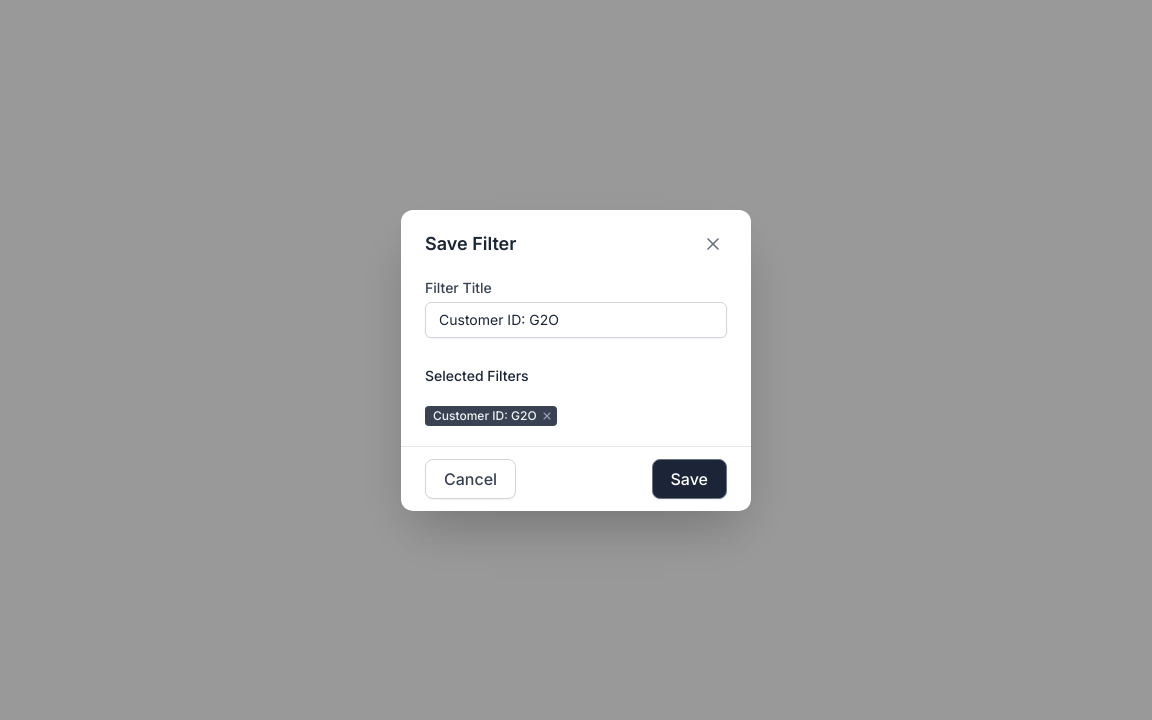
Scenario: SaveFilterModal › Save is disabled on a blank title and when every chip has been removed
Check: the button "Save" is enabled, box [652,458,727,498]
Clear the field labelled "Filter Title" at (576, 320), box [439,310,713,330]
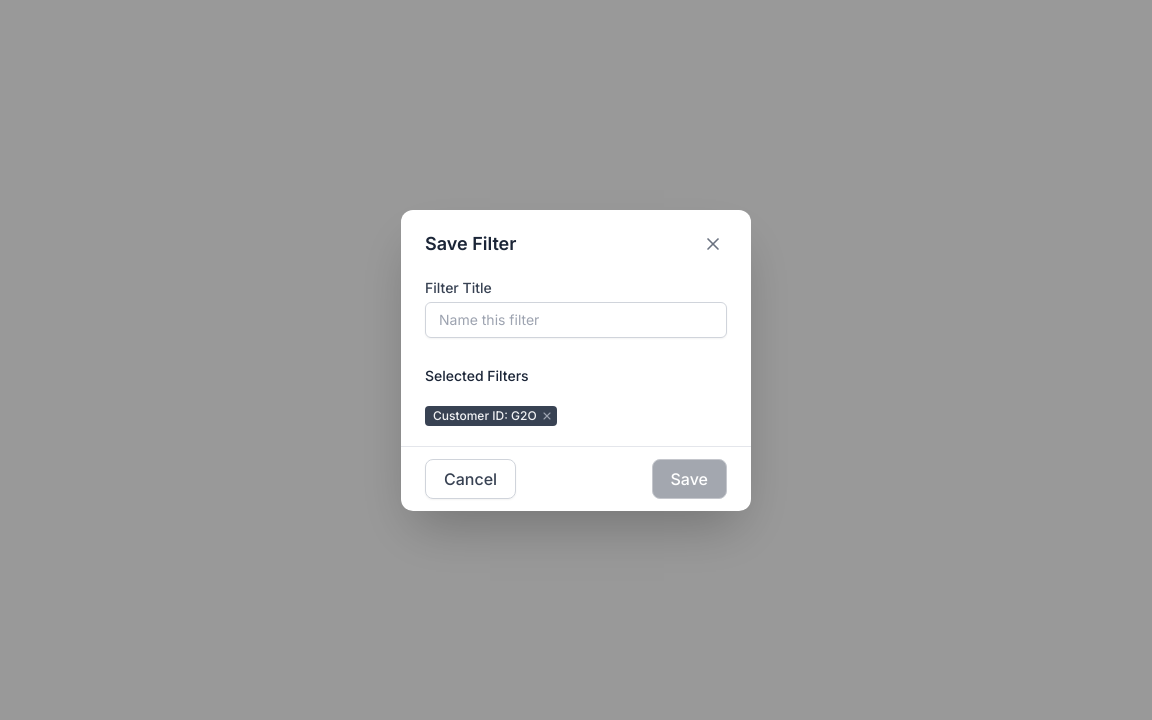
Check: the button "Save" is disabled, box [652,458,727,498]
Type "My Filter" into the field labelled "Filter Title".
click(576, 320); type("My Filter")  # box [439,310,713,330]
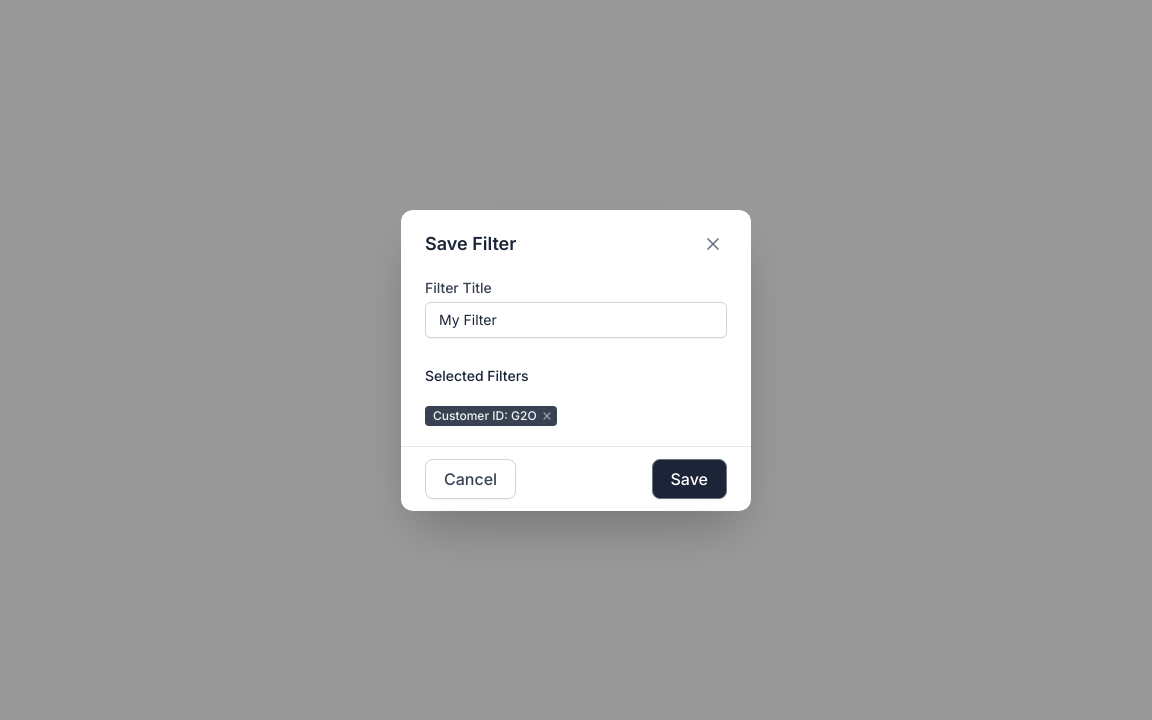
Check: the button "Save" is enabled, box [652,458,727,498]
Click the button named "Remove".
click(547, 416)  # box [541,410,553,422]
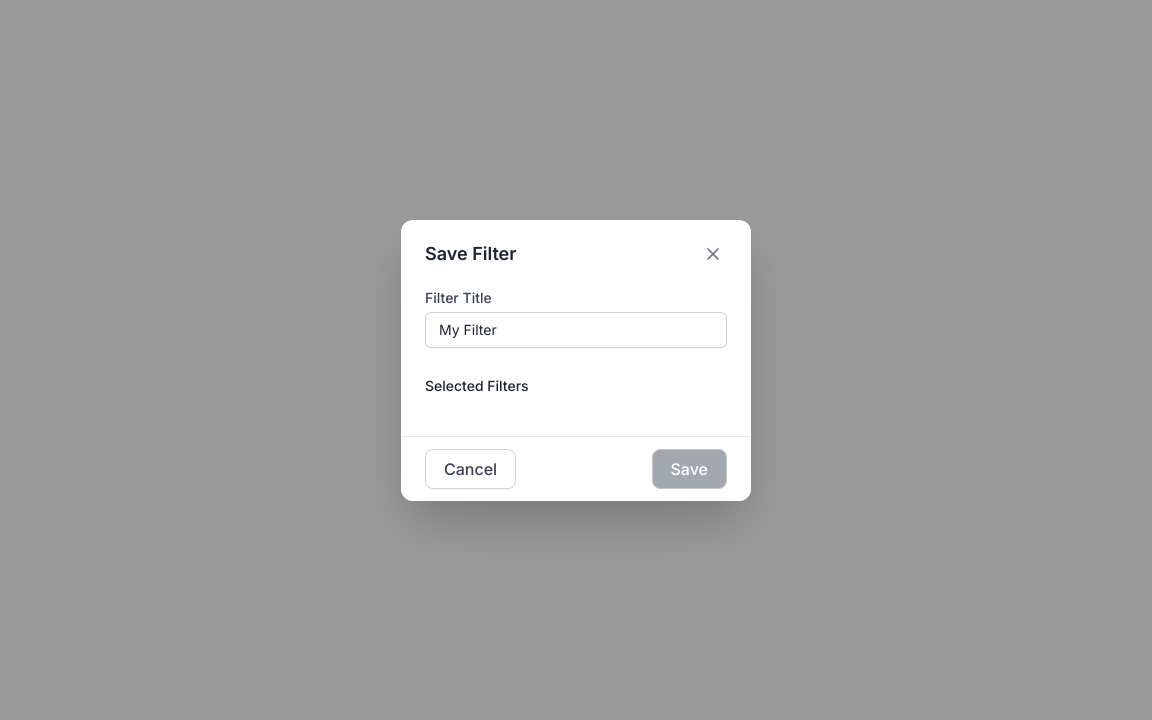
Check: the button "Save" is disabled, box [652,448,727,488]
